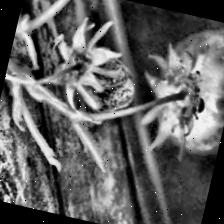Gray Mold: (34, 8, 149, 131)
